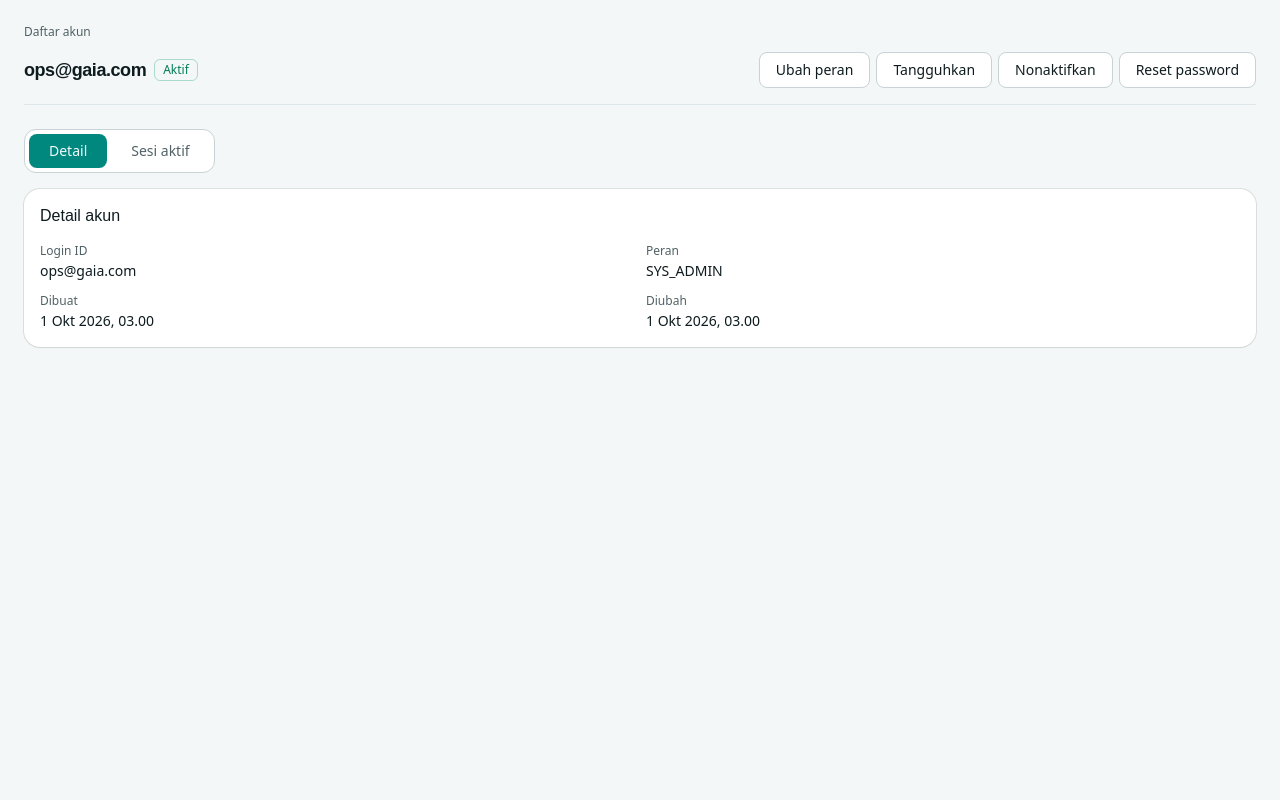
Scenario: role change (D6.4) › sends nothing when the role is unchanged
expect the heading "ops@gaia.com" is shown: met, box [24,56,146,84]
Click the button "Ubah peran". click: {"x": 815, "y": 70}
box: [759,52,870,88]
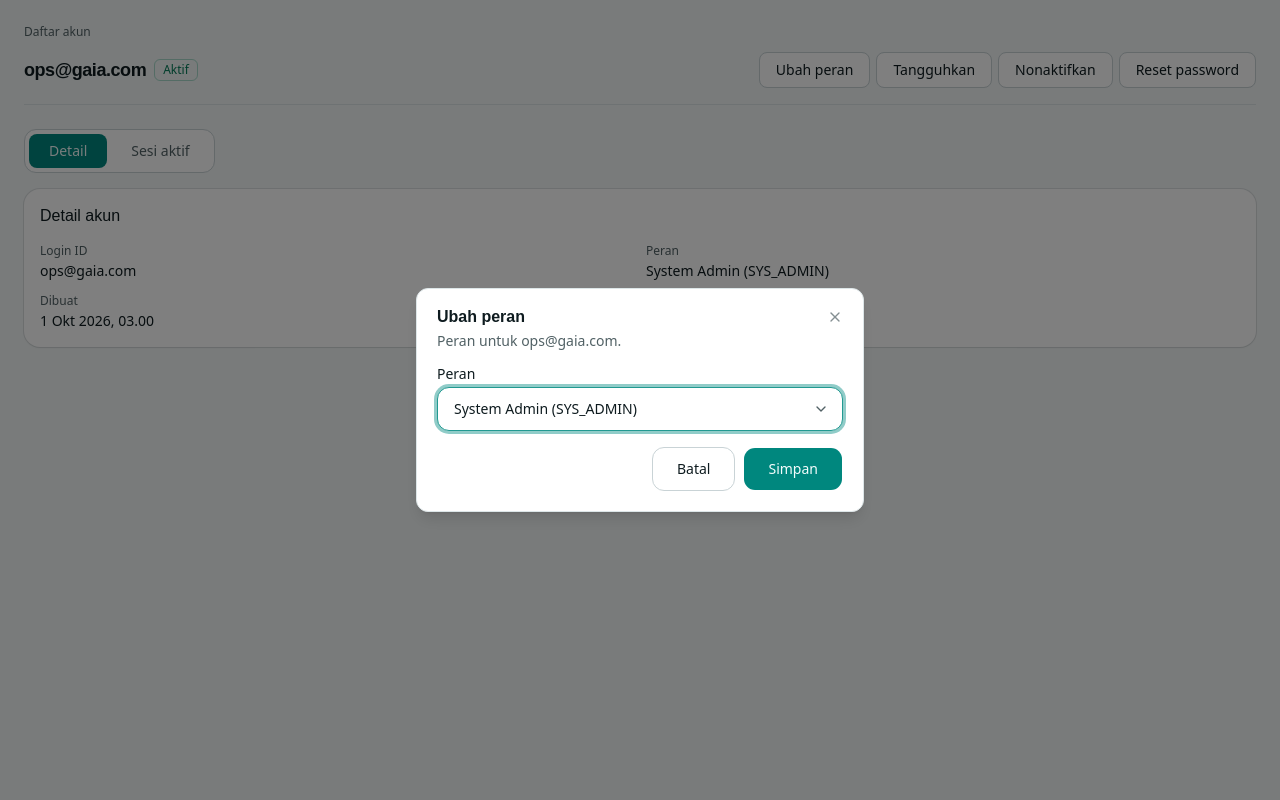
expect the dropdown labelled "Peran" shows "System Admin (SYS_ADMIN)": met, box [437,387,843,431]
Click the button "Simpan". click: {"x": 793, "y": 469}
box: [744,447,843,491]
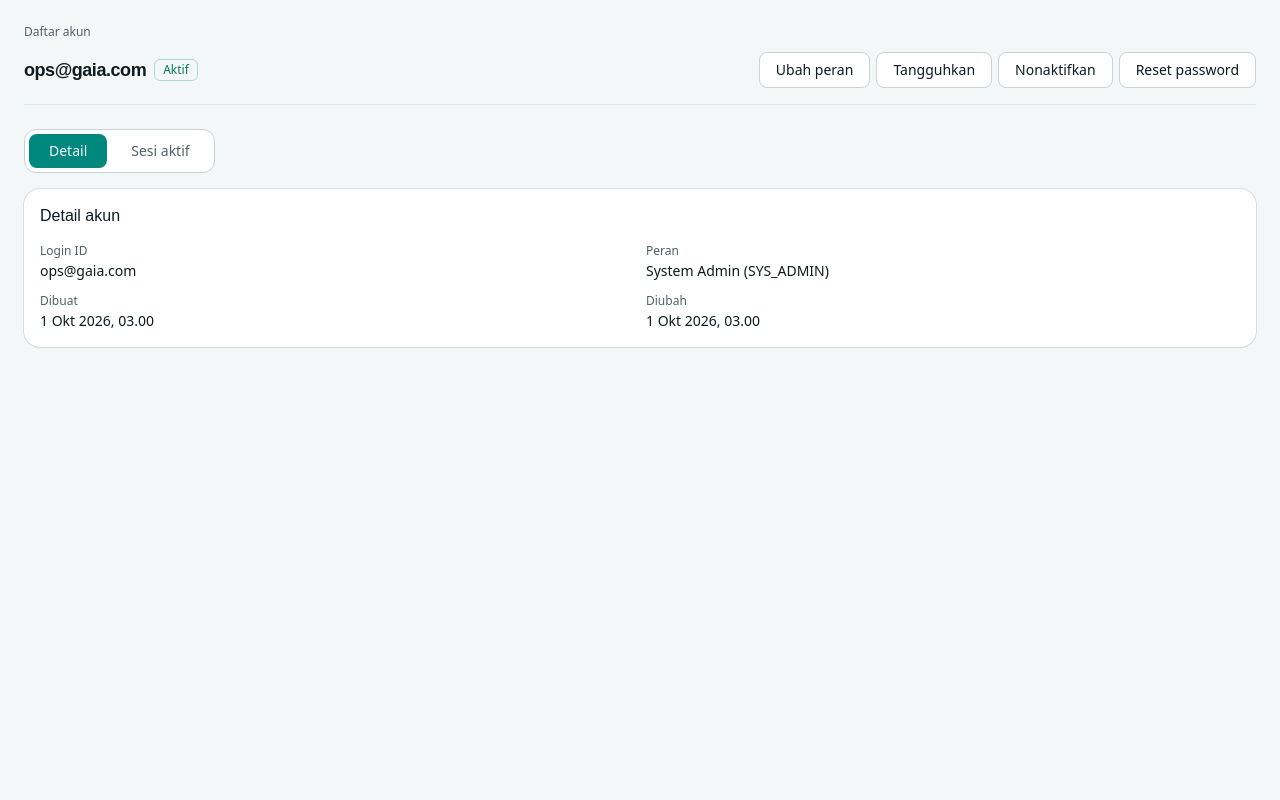
expect the dialog is gone: met
